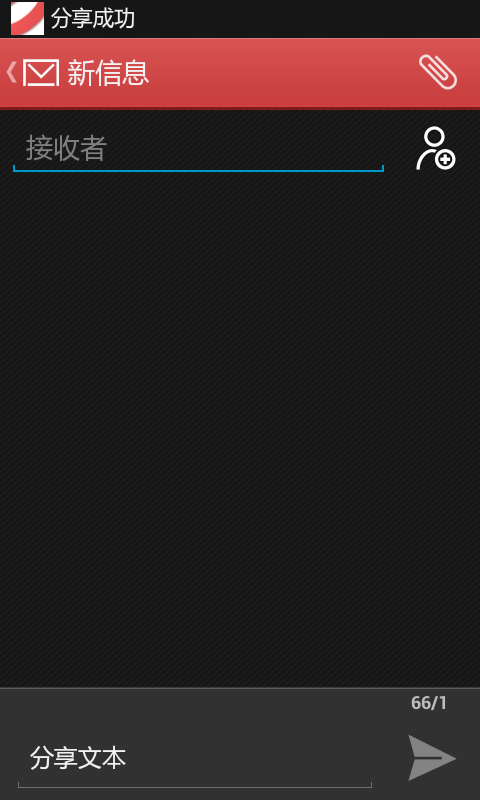imgbutton: (401, 727, 461, 787), (398, 42, 465, 93), (404, 125, 466, 179)
textview: (19, 725, 386, 796), (10, 126, 394, 186)
